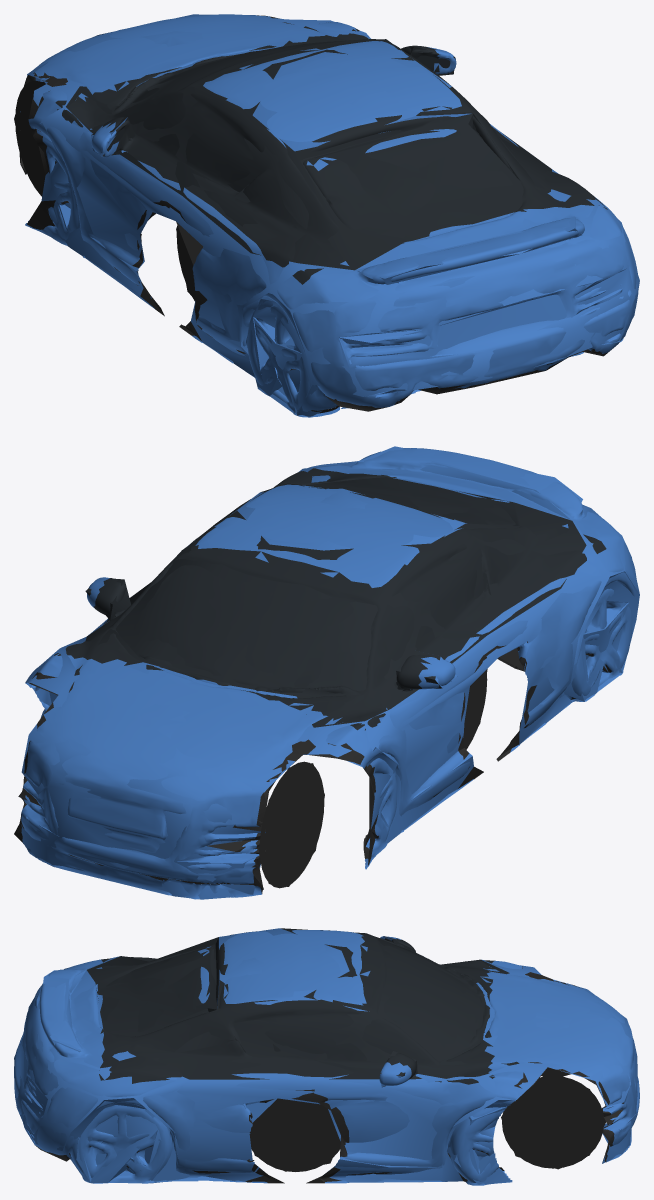
File: audi-r8-spyder.glb
3 renders of one model, top to bottom at view 1: azimuth 30°, elevation 25°; view 2: azimuth 150°, elevation 25°; view 3: azimuth 270°, elevation 25°, orthographic. The views are drawn at different scales.
Parts seen in each view (by area): view 1: body, far; view 2: body, far; view 3: body, far.
Boxes of the visible parts, box(x1,y1,x2,y2) form: body: box(15, 14, 638, 417); far: box(14, 14, 639, 417); body: box(14, 448, 638, 899); far: box(18, 446, 639, 899); body: box(14, 929, 639, 1185); far: box(14, 928, 637, 1184).
Bounding box in the file's own units: 2.32 × 1.31 × 4.42.
